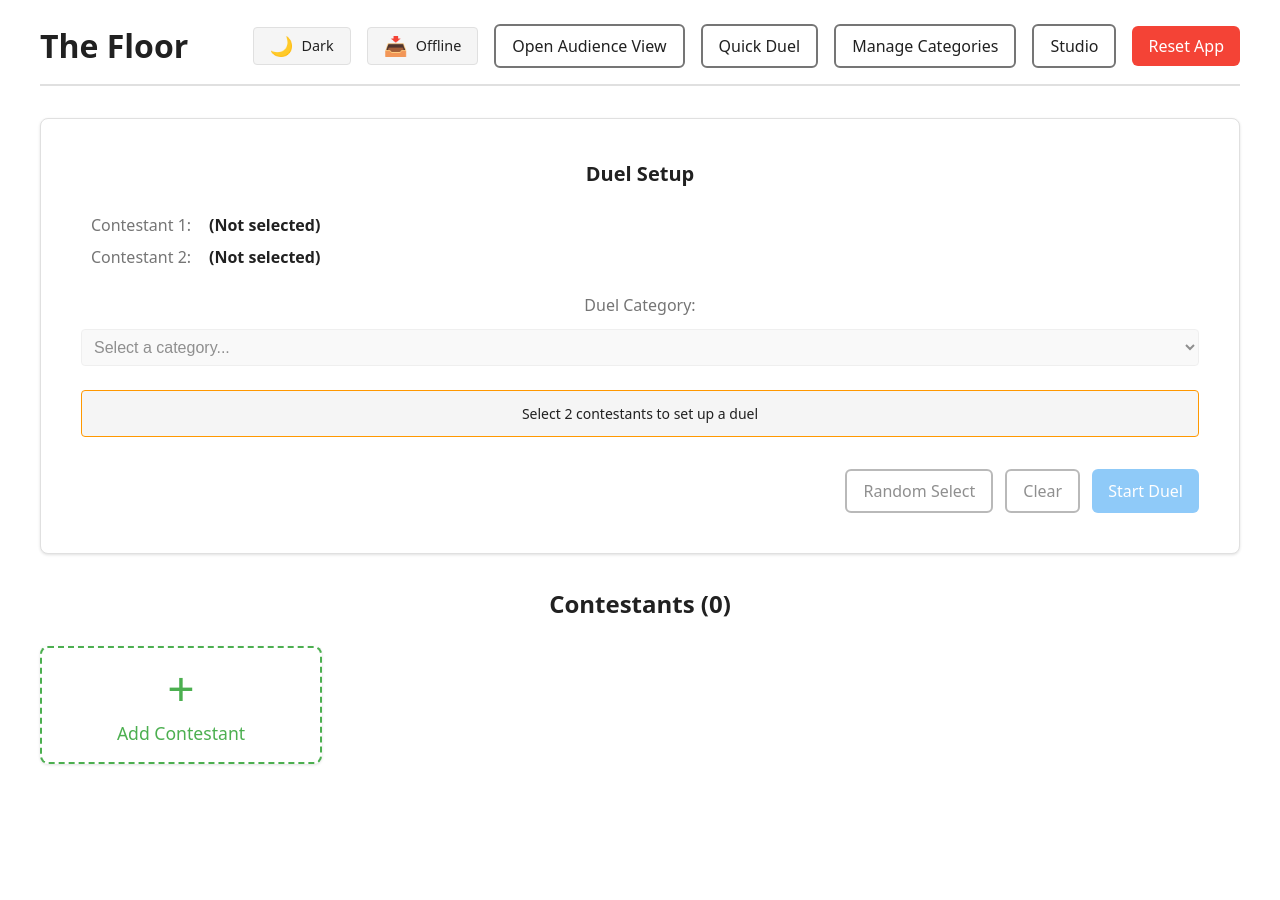
Test: Dashboard › opens add contestant modal when Add Contestant card clicked
The image size is (1280, 900).
Click the button with aria-label "Add new contestant" at (181, 705), box [40, 646, 322, 764]
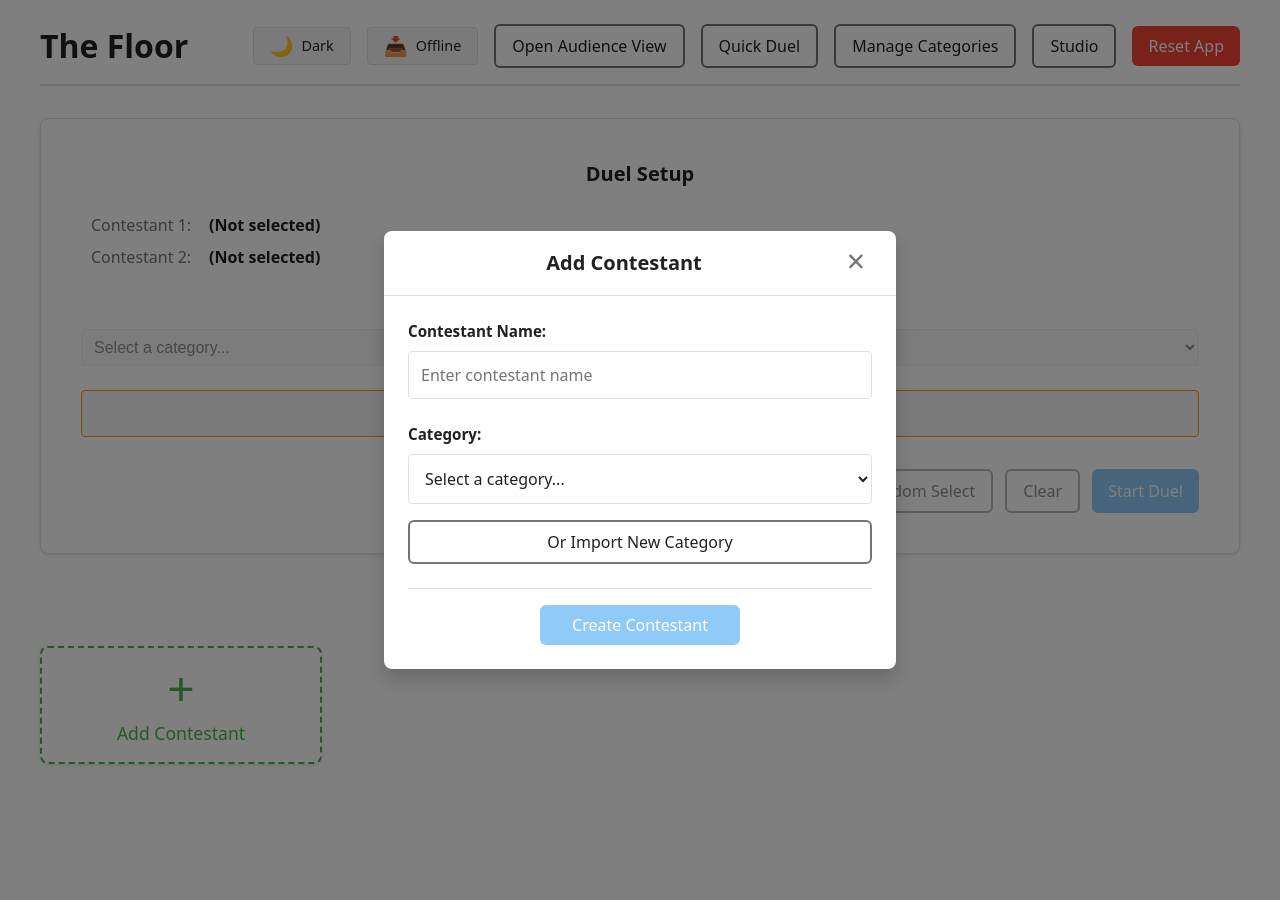
Expected: the dialog is shown, [384, 231, 896, 669]
